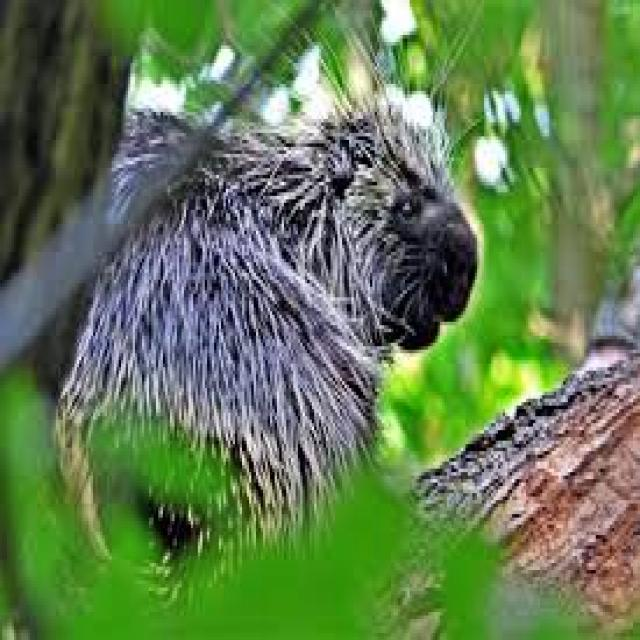porcupine: (47, 87, 477, 570)
